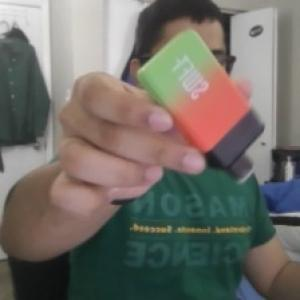Swift-E-Ciggirate: (133, 25, 276, 186)
